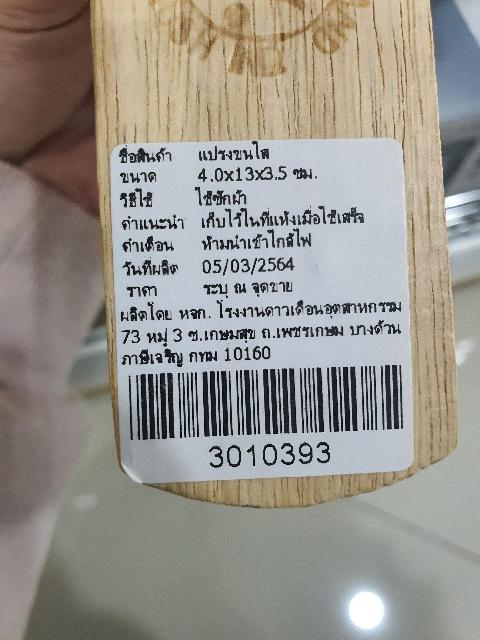Barcode: (123, 359, 407, 471)
